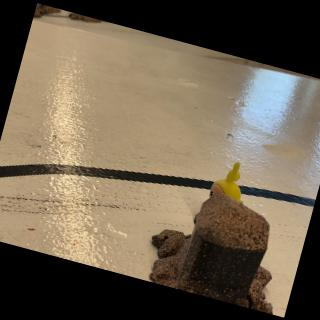teletubby: (209, 162, 243, 204)
